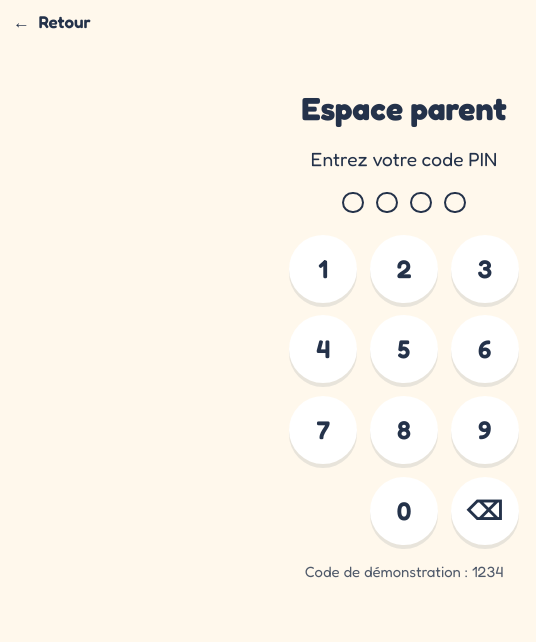
Test case: espace parent › refuse un mauvais PIN sans déconnecter le parent
The image size is (536, 642).
Step 1. Click the button "0" → click(404, 511), box [370,477,438,545]
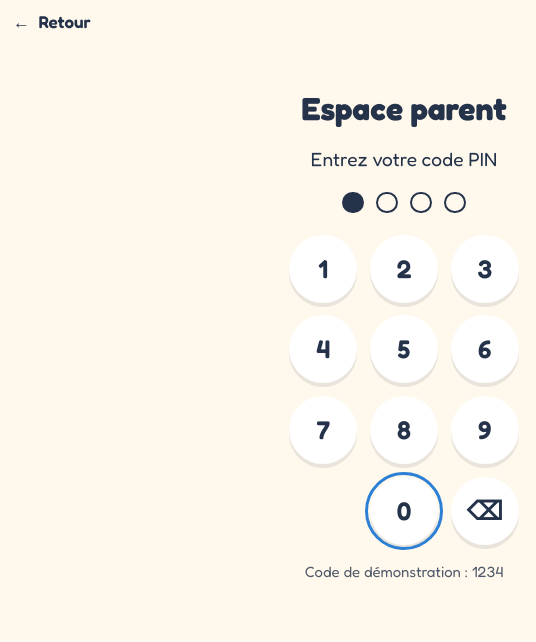
Step 2. Click the button "0" → click(404, 511), box [370,477,438,545]
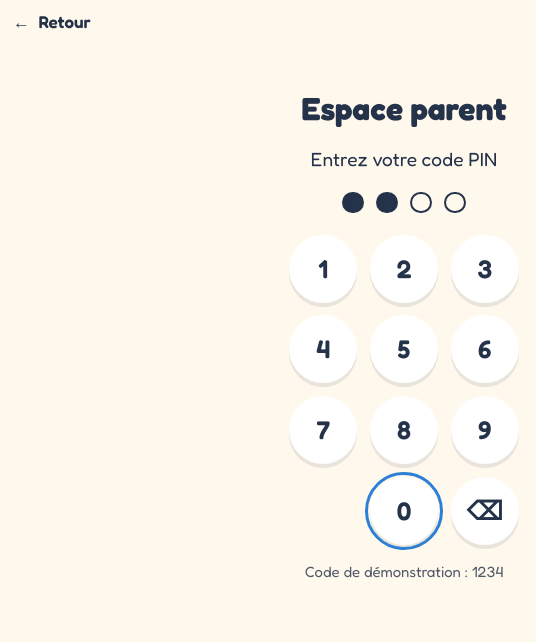
Step 3. Click the button "0" → click(404, 511), box [370,477,438,545]
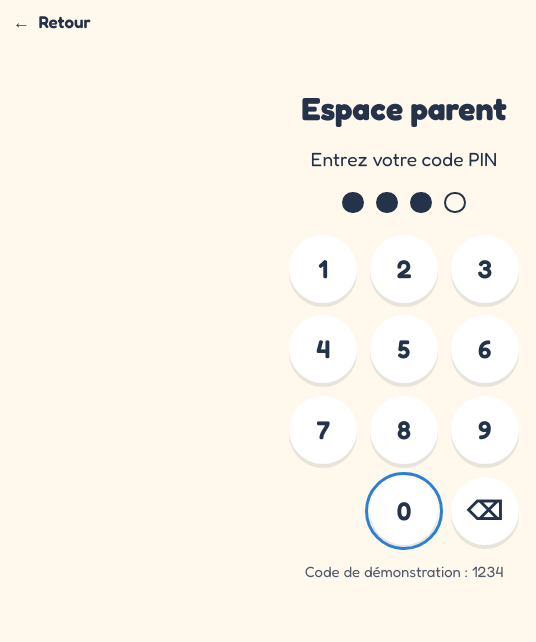
Step 4. Click the button "0" → click(404, 511), box [370,477,438,545]
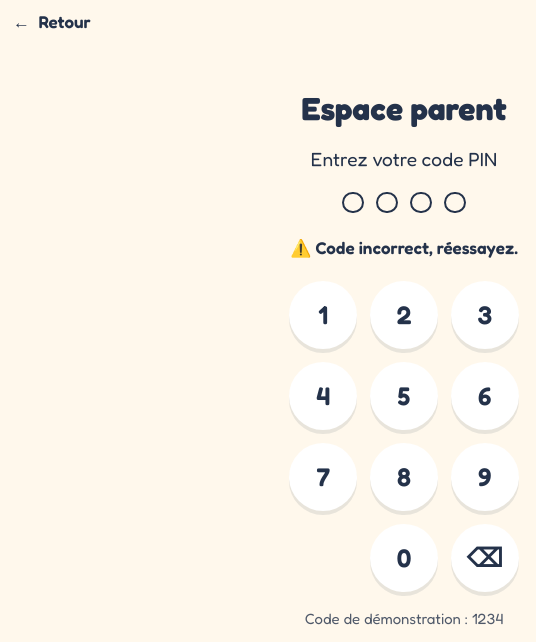
Now the message shows "Code incorrect", box [315,236,518,258]
